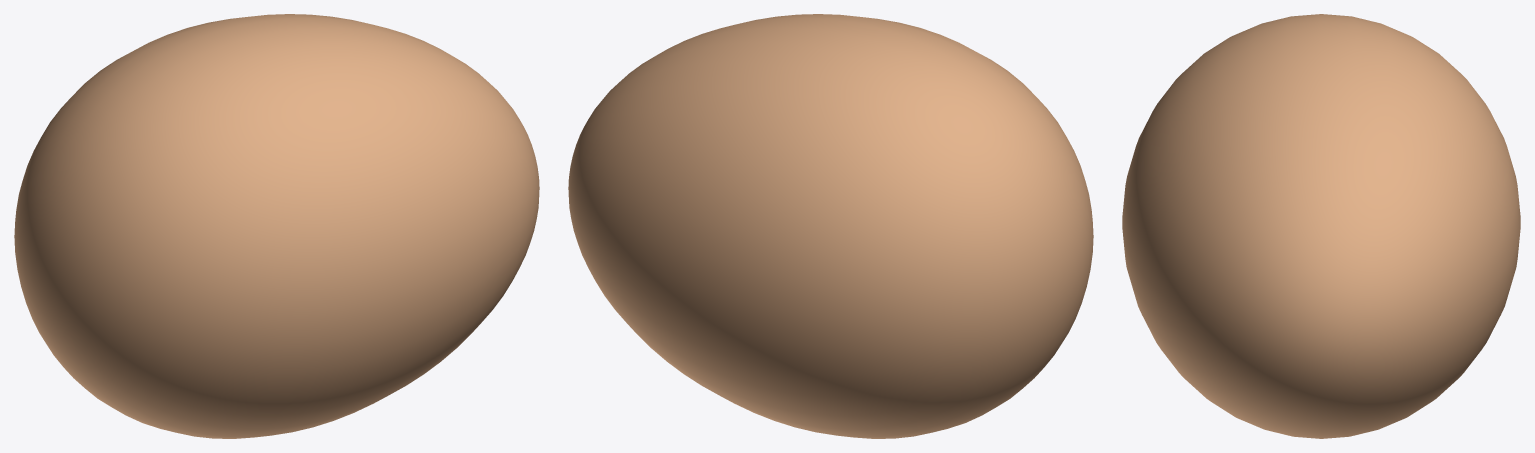
Rendered from Huevo.fbx.
3 renders of one model, left to right at view 1: azimuth 30°, elevation 25°; view 2: azimuth 150°, elevation 25°; view 3: azimuth 270°, elevation 25°, orthographic. The views are drawn at different scales.
Parts seen in each view (by area): view 1: Huevo_02; view 2: Huevo_02; view 3: Huevo_02.
Boxes of the visible parts, x1,y1,x2,y2 form: Huevo_02: (14,14,539,438); Huevo_02: (568,14,1093,438); Huevo_02: (1122,14,1520,438).
Size of the model in its own units: 0.057 by 0.043 by 0.043.
